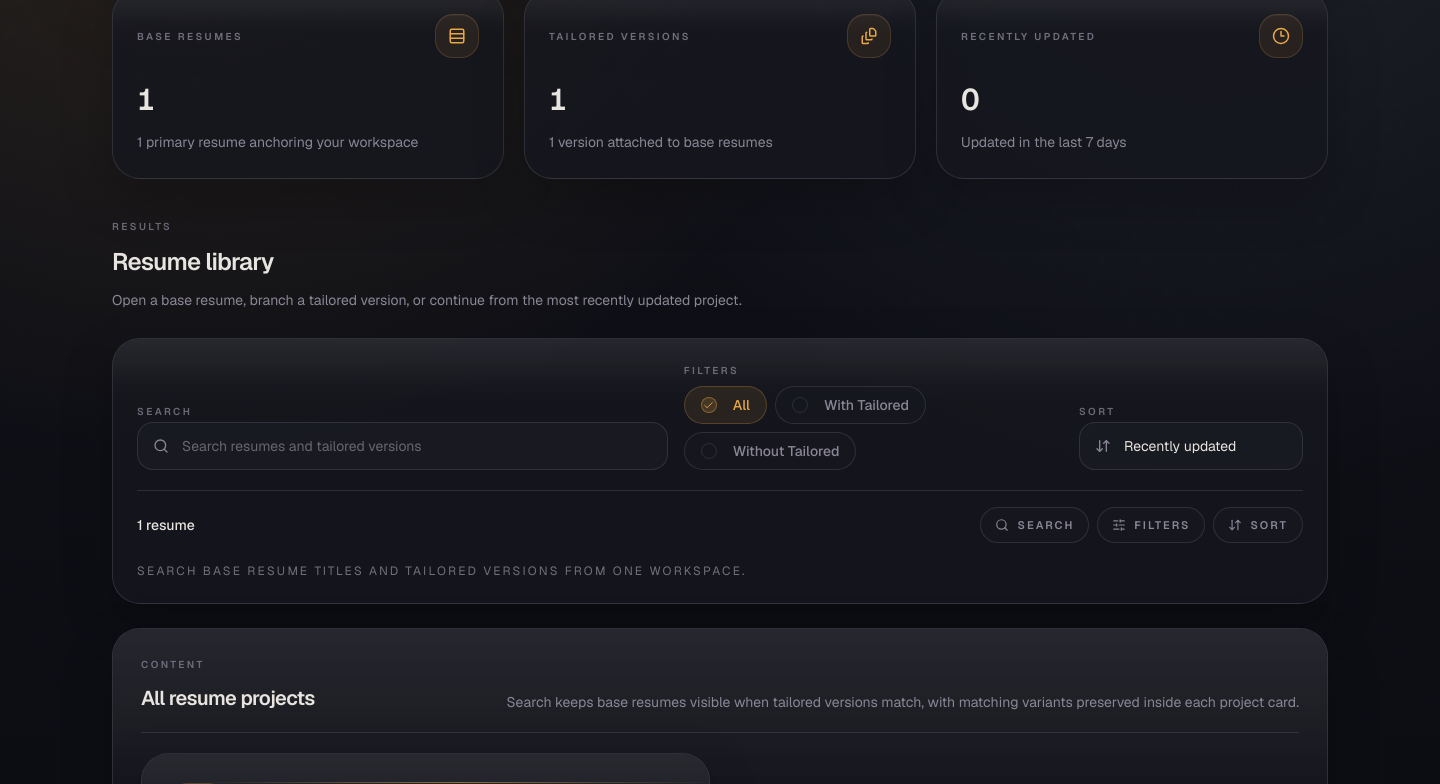
it: DashboardPageClient › heading text reflects active controls › shows Filtered resume projects when a filter is active
The image size is (1440, 784).
(page scrolled)
Click the button "With Tailored": click(850, 405) x1=775 y1=386 x2=926 y2=424
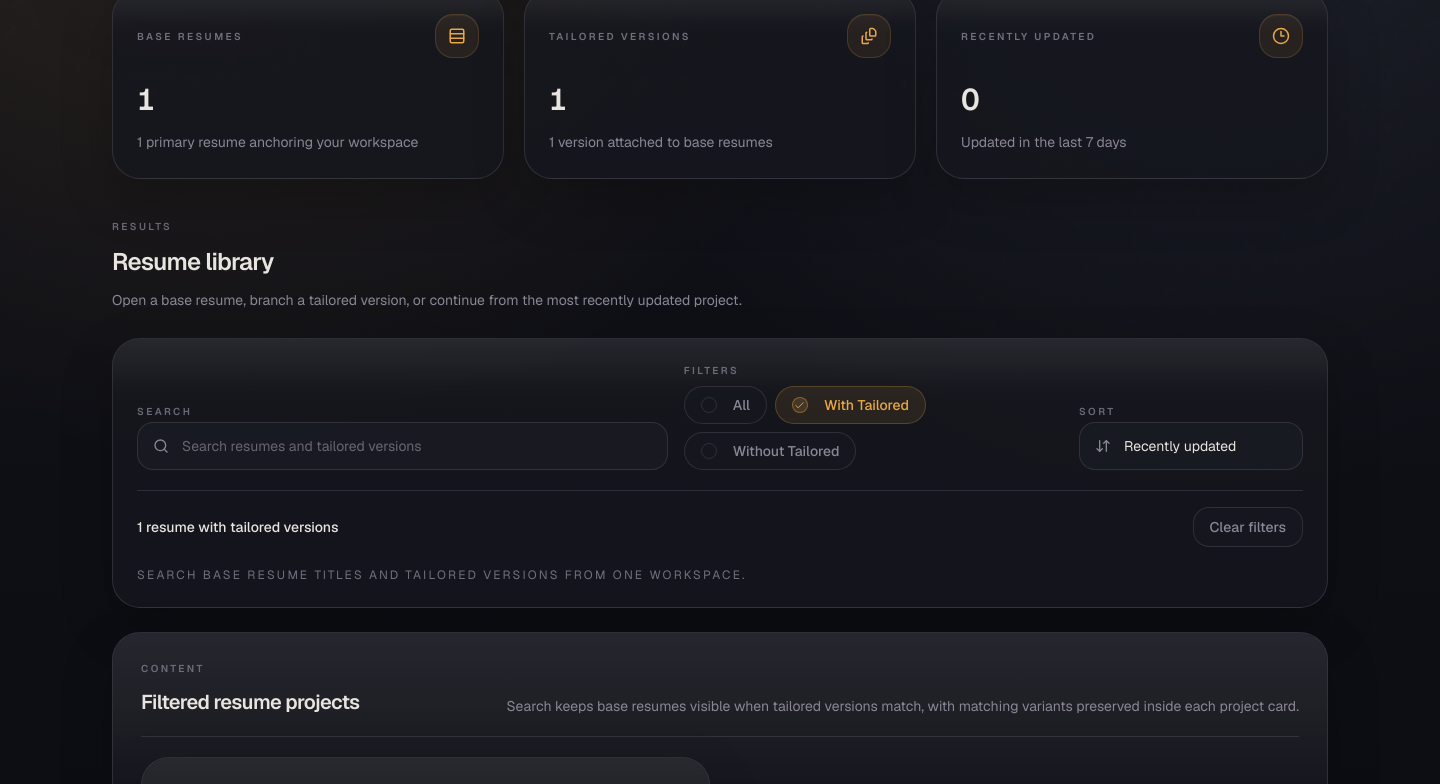
Check: the heading "Filtered resume projects" is shown, box x1=141 y1=688 x2=360 y2=716
